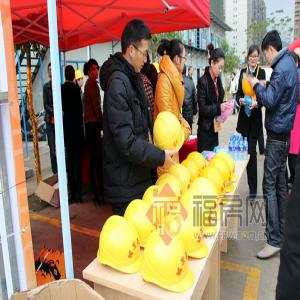none: (122, 20, 150, 73), (263, 31, 283, 67), (169, 39, 187, 73), (210, 46, 226, 81), (86, 59, 101, 83), (247, 45, 261, 70)
yellow: (74, 69, 84, 89)
